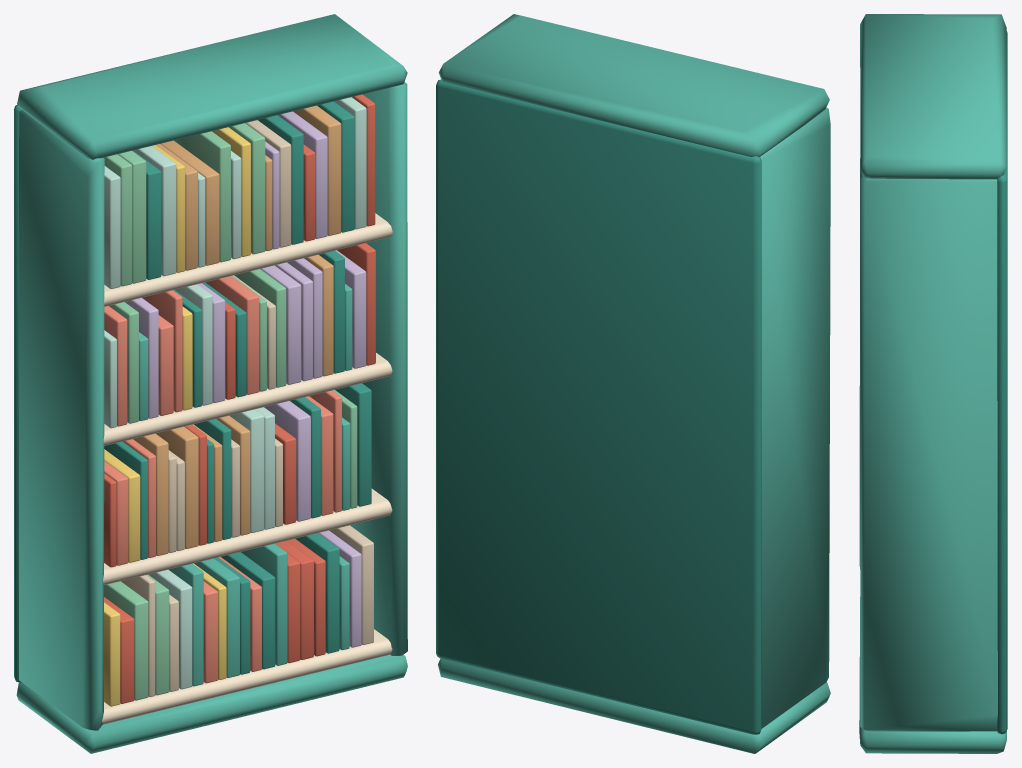
File: bookshelf_a.glb
3 views of the same model, side by side, from view 1: azimuth 30°, elevation 25°; view 2: azimuth 150°, elevation 25°; view 3: azimuth 270°, elevation 25° (orthographic). The views are drawn at different scales.
Visible parts, largest first — view 1: body; view 2: body; view 3: body.
Boxes of the visible parts, box(x1,y1,x2,y2) form: body: box(14, 14, 407, 753); body: box(436, 14, 830, 753); body: box(859, 14, 1007, 753).
Size of the model in its own units: 0.78 by 1.41 by 0.3196.
